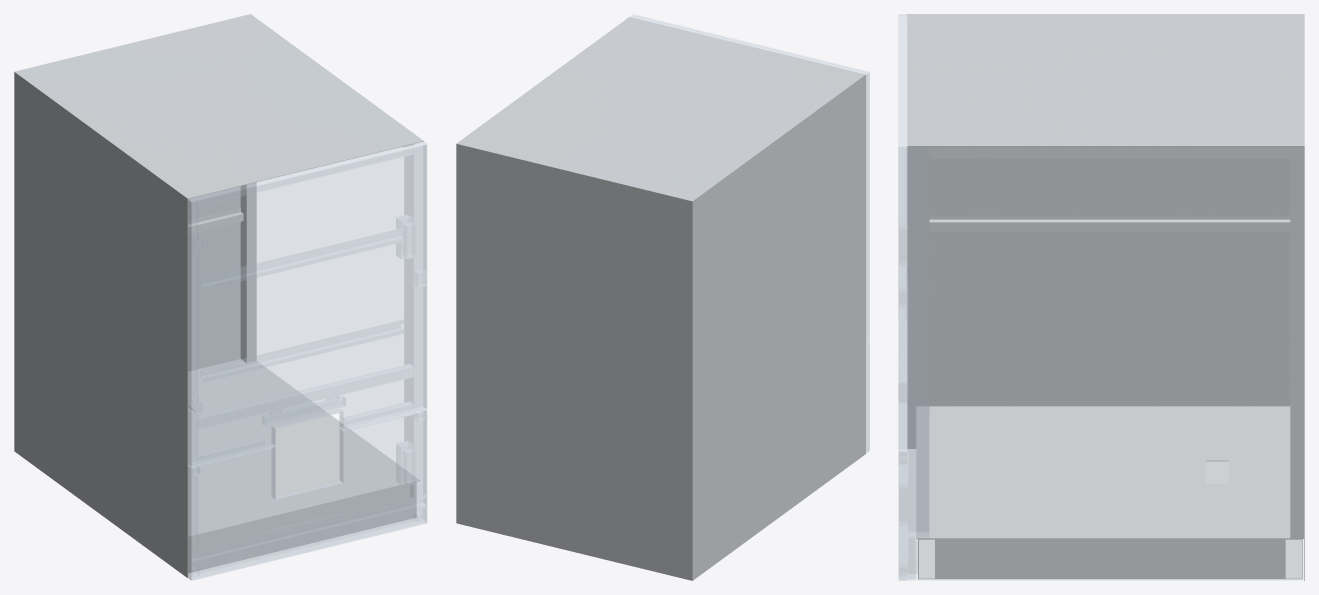
File: modul_A.glb
The picture shows the model from 3 angles, left to right: view 1: azimuth 30°, elevation 25°; view 2: azimuth 150°, elevation 25°; view 3: azimuth 270°, elevation 25°; orthographic projection. The views are drawn at different scales.
Parts seen in each view (by area): view 1: A_GOVDE__sac, A_ONYUZ__on_seffaf__SERVIS_KAPAGI, KAIDE_A__sac, A_ONYUZ__on_seffaf__ALT_PANEL, A_GOVDE__on_seffaf, KAIDE_A__paslanmaz, A_GOVDE__paslanmaz, A_SEFFAF__sol, A_SEFFAF__ust; view 2: A_GOVDE__sac, A_ONYUZ__on_seffaf__SERVIS_KAPAGI, A_SEFFAF__sol, A_SEFFAF__ust; view 3: A_GOVDE__sac, KAIDE_A__sac, KAIDE_A__paslanmaz, A_GOVDE__paslanmaz, A_GOVDE__on_seffaf, A_ONYUZ__on_seffaf__SERVIS_KAPAGI, A_ONYUZ__on_seffaf__ALT_PANEL, A_SEFFAF__ust, A_SEFFAF__alt.
Part boxes in pixels (x1,y1,x2,y2): A_GOVDE__sac: (14,14,423,577); A_ONYUZ__on_seffaf__SERVIS_KAPAGI: (188,142,426,466); KAIDE_A__sac: (188,359,419,537); A_ONYUZ__on_seffaf__ALT_PANEL: (188,410,426,580); A_GOVDE__on_seffaf: (189,143,422,573); KAIDE_A__paslanmaz: (188,406,416,573); A_GOVDE__paslanmaz: (188,144,414,362); A_SEFFAF__sol: (188,200,191,579); A_SEFFAF__ust: (188,141,426,201); A_GOVDE__sac: (456,17,865,580); A_ONYUZ__on_seffaf__SERVIS_KAPAGI: (632,15,869,338); A_SEFFAF__sol: (866,73,868,452); A_SEFFAF__ust: (630,14,868,73); A_GOVDE__sac: (907,14,1304,580); KAIDE_A__sac: (916,406,1303,538); KAIDE_A__paslanmaz: (918,461,1302,579); A_GOVDE__paslanmaz: (929,146,1303,538); A_GOVDE__on_seffaf: (907,146,929,579); A_ONYUZ__on_seffaf__SERVIS_KAPAGI: (898,16,907,449); A_ONYUZ__on_seffaf__ALT_PANEL: (898,450,907,580); A_SEFFAF__ust: (898,14,906,146); A_SEFFAF__alt: (899,539,1303,580).
Size of the model in its own units: 0.7 by 1.07 by 0.909.
